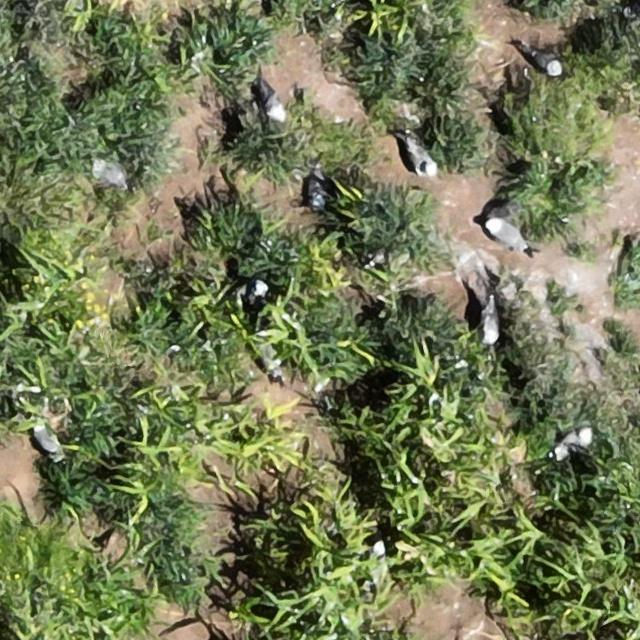umineko: (487, 220, 525, 248), (408, 139, 434, 174), (528, 50, 563, 75), (558, 428, 590, 454), (35, 426, 60, 454), (308, 169, 325, 210), (264, 90, 284, 122), (482, 312, 498, 346)
